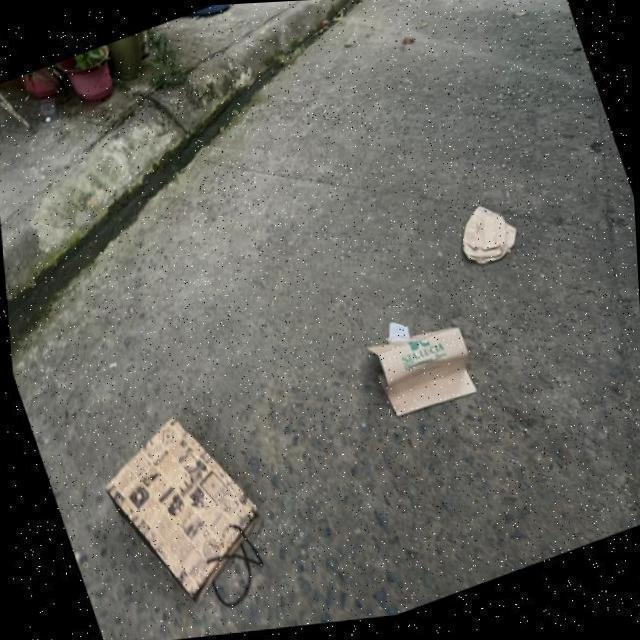Paper_Bag: (85, 392, 286, 640), (358, 304, 484, 430), (450, 200, 522, 280)
